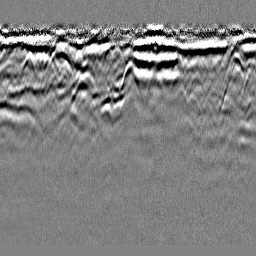cavity: (120, 59, 139, 89)
